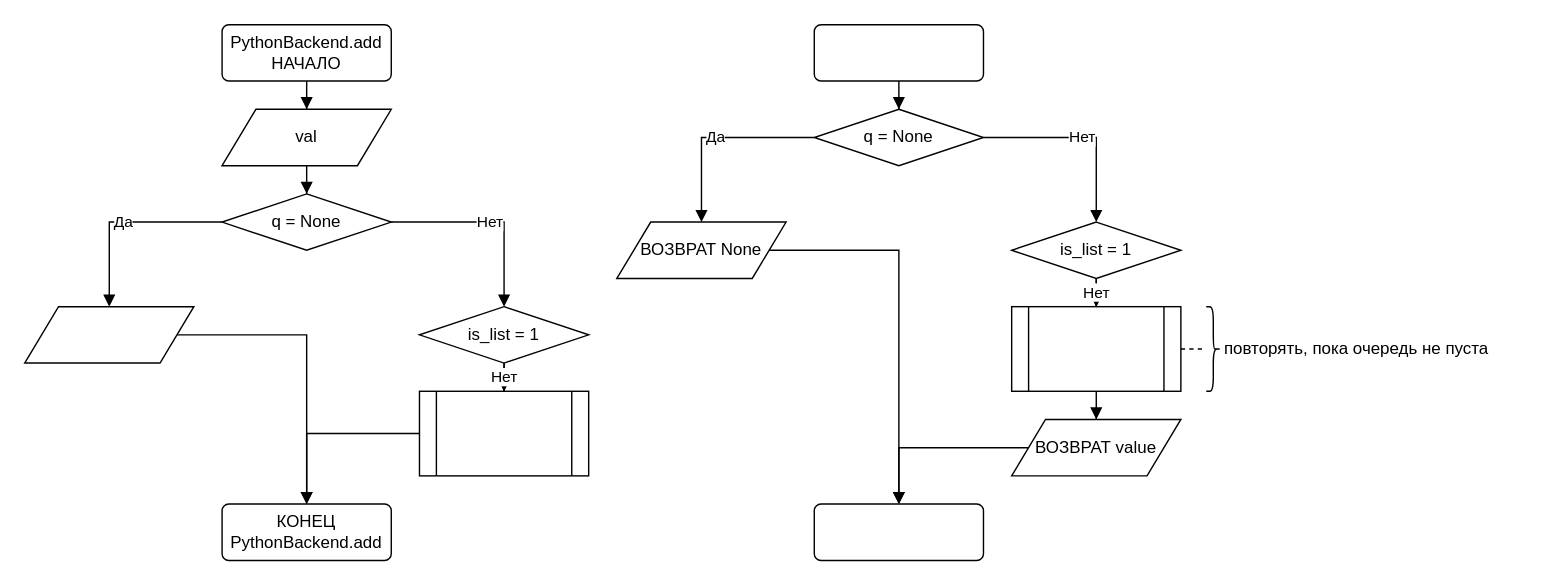
The diagram is 1557 pixels wide and 585 high, and some of its shapes have lost their labels. The shapes that lost their labels are listed below. From the top down, each one's centre as x and y in pixels, then its label:
the point at 898,52: PythonBackend.dequeue НАЧАЛО
the point at 108,334: ВОЗВРАТ
the point at 1095,348: pop(0) или q.dequeue()
the point at 503,433: append(val) или q.add(val)
the point at 898,531: КОНЕЦ PythonBackend.dequeue
